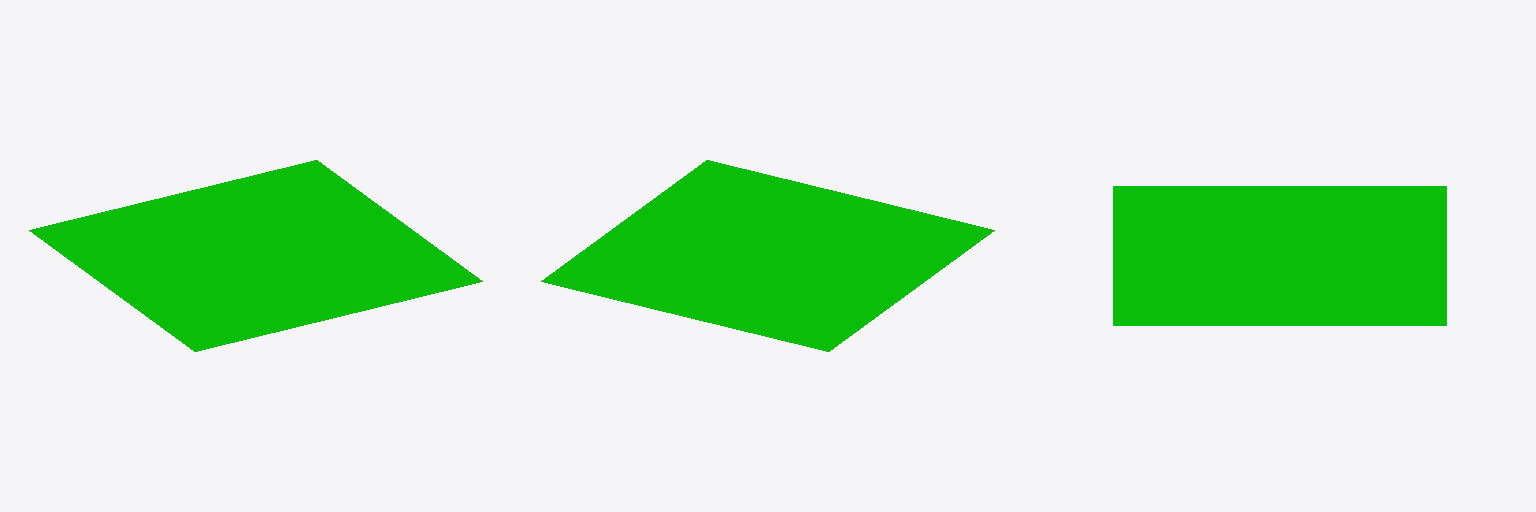
File: site1.obj
3 views of the same model, side by side, from view 1: azimuth 30°, elevation 25°; view 2: azimuth 150°, elevation 25°; view 3: azimuth 270°, elevation 25° (orthographic).
Visible parts, largest first — view 1: plane; view 2: plane; view 3: plane.
Boxes of the visible parts, x1,y1,x2,y2 form: plane: [29, 160, 482, 351]; plane: [541, 160, 994, 351]; plane: [1113, 186, 1446, 325].
Size of the model in its own units: 17.61 by 0 by 17.61.